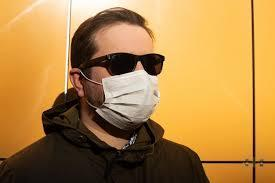mask: (97, 63, 167, 136)
sunglasses: (89, 48, 172, 80)
